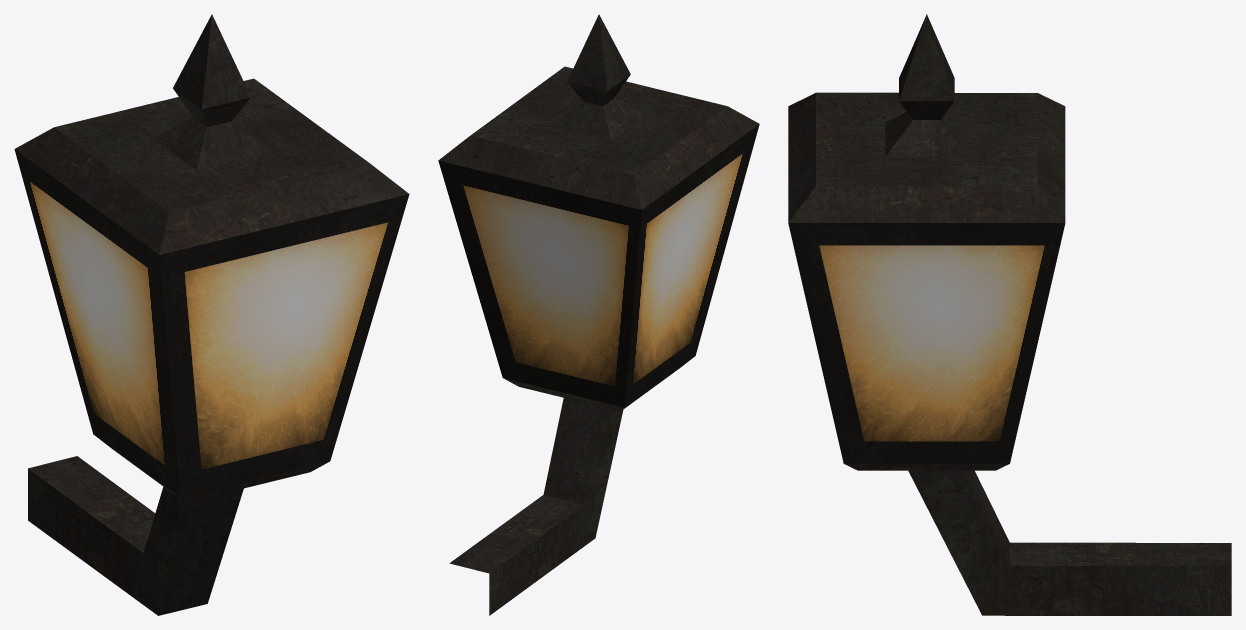
File: lamp.gltf
The picture shows the model from 3 angles, left to right: view 1: azimuth 30°, elevation 25°; view 2: azimuth 150°, elevation 25°; view 3: azimuth 270°, elevation 25°; orthographic projection. The views are drawn at different scales.
Visible parts, largest first — view 1: StaticMesh; view 2: StaticMesh; view 3: StaticMesh.
Part boxes in pixels (<box>): StaticMesh: <box>14,14,409,615</box>; StaticMesh: <box>438,14,759,615</box>; StaticMesh: <box>788,14,1231,615</box>.
Bounding box in the file's own units: 9.97 × 23.5 × 16.
Materials: 2 (2 with a texture image).
